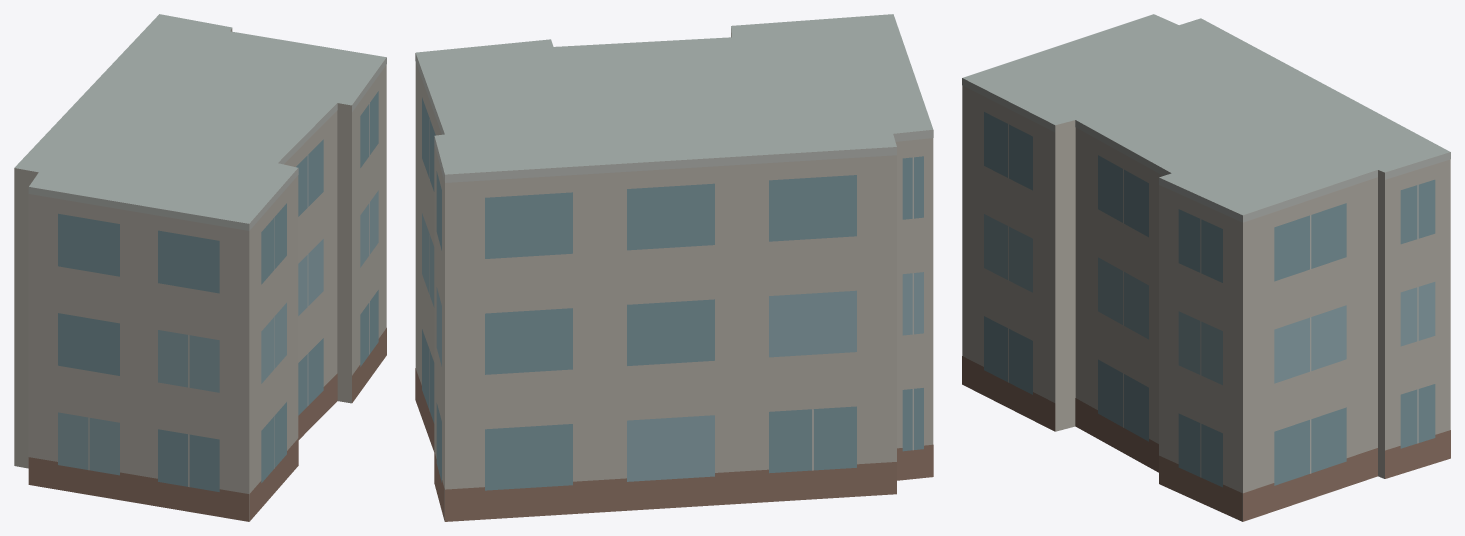
File: survey-upis-32974991.glb
The picture shows the model from 3 angles, left to right: view 1: azimuth 30°, elevation 25°; view 2: azimuth 150°, elevation 25°; view 3: azimuth 270°, elevation 25°; orthographic projection. The views are drawn at different scales.
Parts seen in each view (by area): view 1: survey-upis-32974991.tmp; view 2: survey-upis-32974991.tmp; view 3: survey-upis-32974991.tmp.
Part boxes in pixels (x1,y1,x2,y2): survey-upis-32974991.tmp: [14, 14, 386, 521]; survey-upis-32974991.tmp: [415, 14, 933, 521]; survey-upis-32974991.tmp: [962, 14, 1450, 521].
Size of the model in its own units: 14.38 by 10.2 by 14.74.
